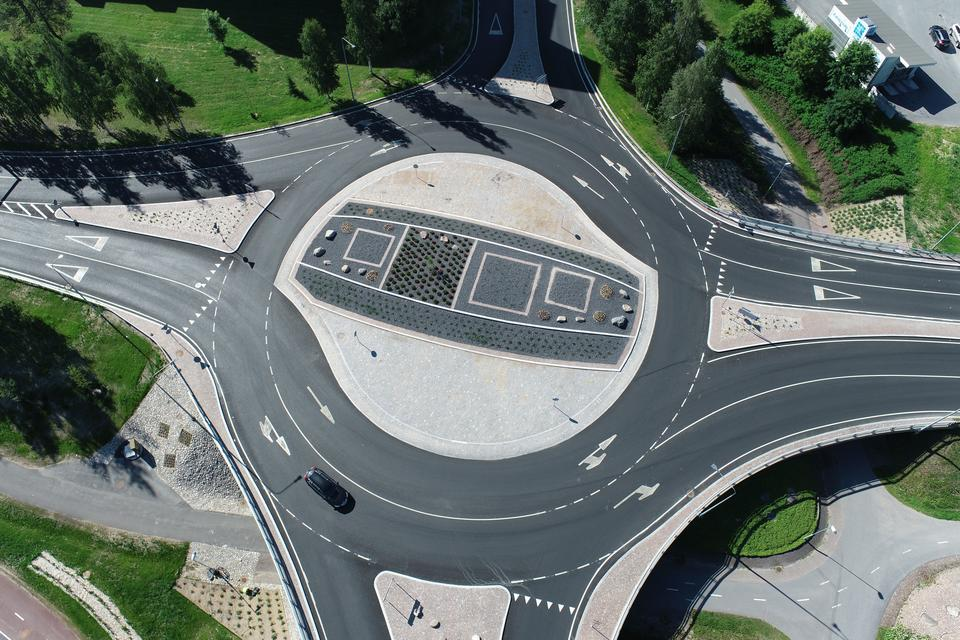roundabout: (170, 53, 755, 640)
